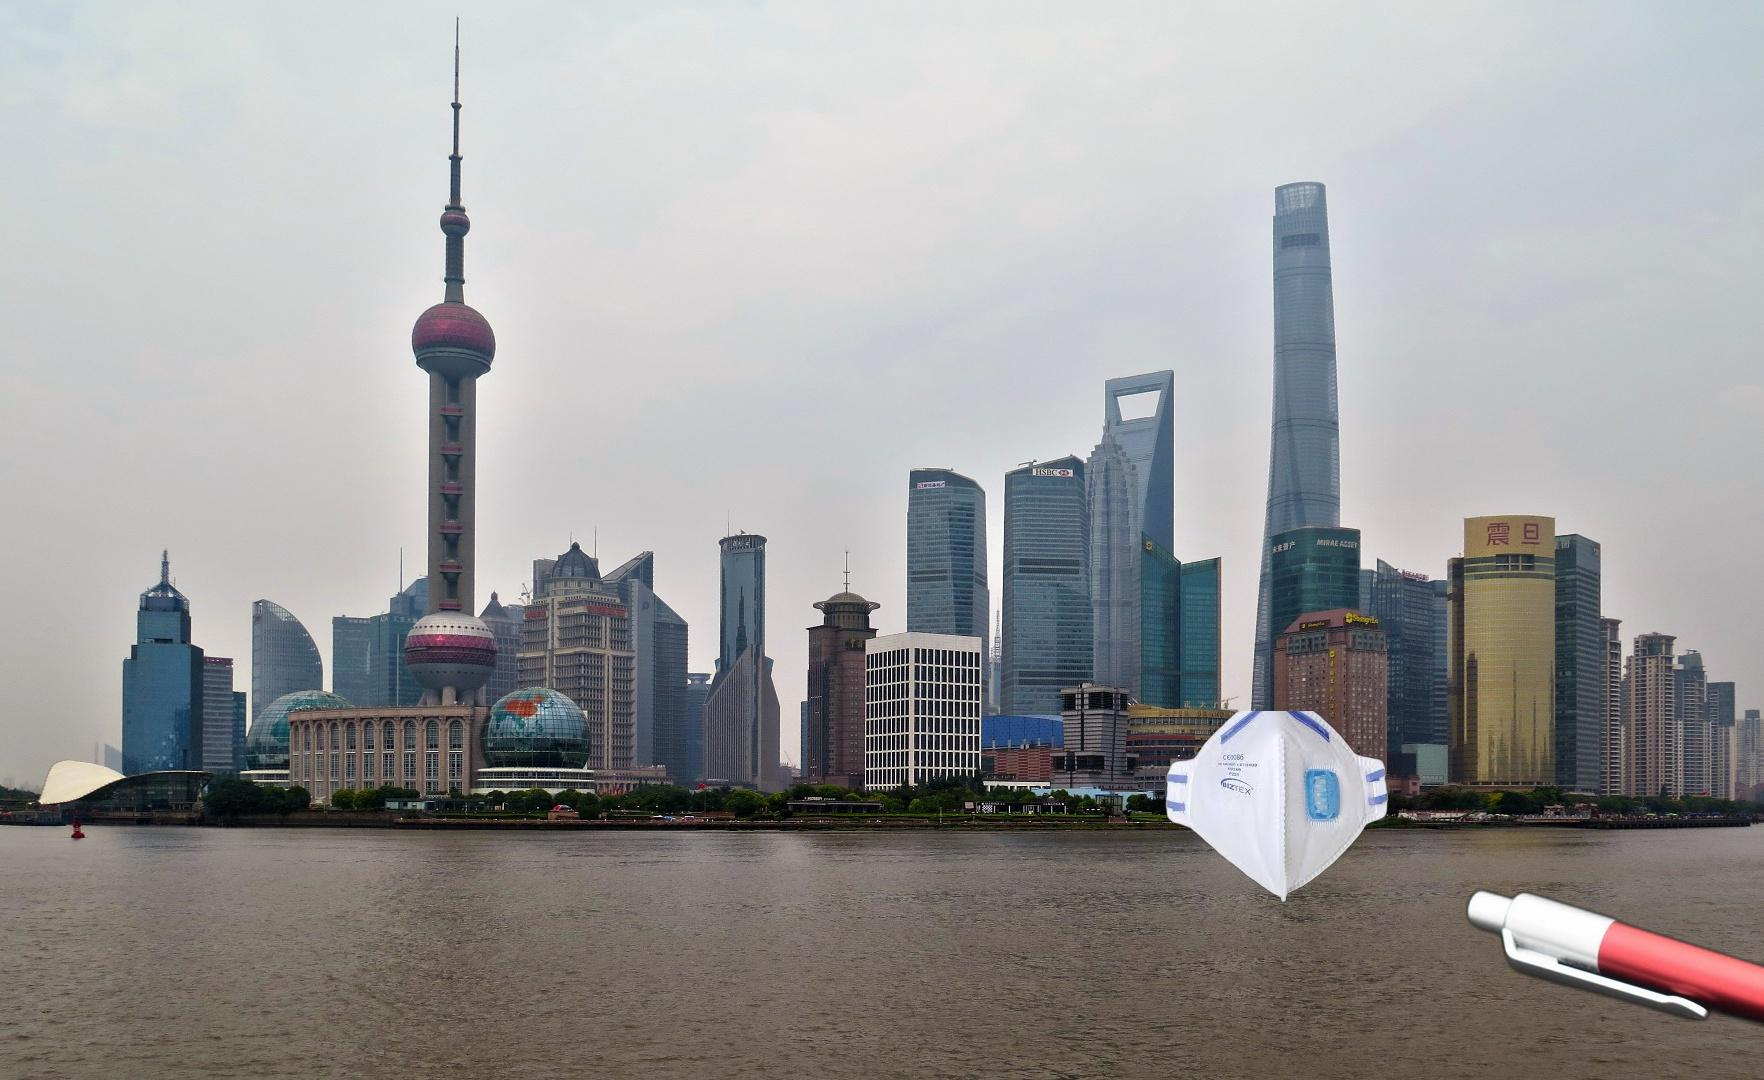penholder: (1428, 679, 1764, 1080)
trash: (1164, 711, 1389, 905)
